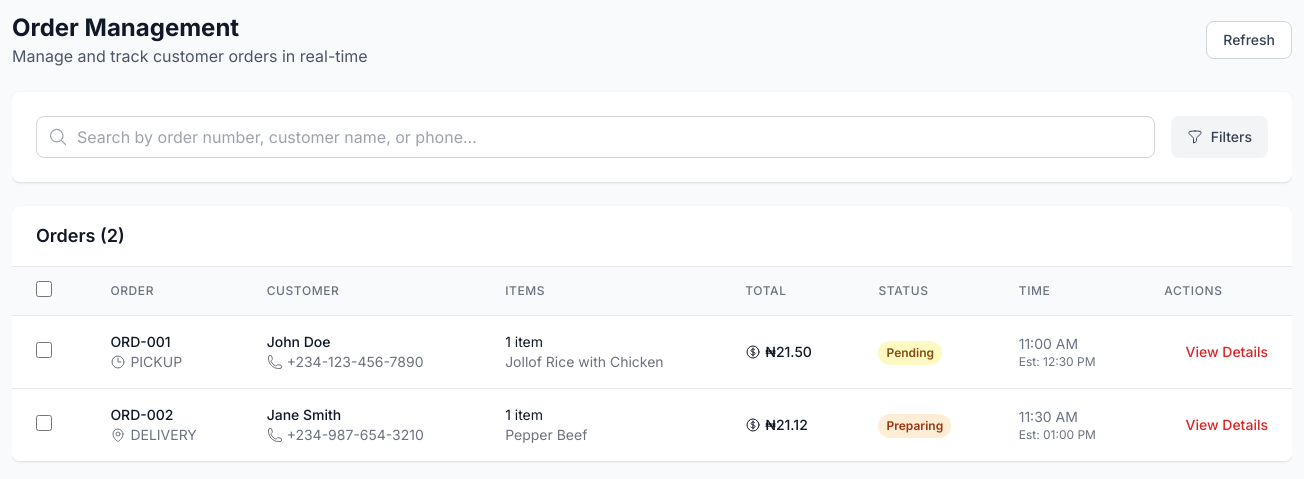
it: OrderManagementPage › filters orders by search term
Type "ORD-001" into the field with placeholder "Search by order number, customer name, or phone...". click: [595, 137]
box: [36, 116, 1155, 158]
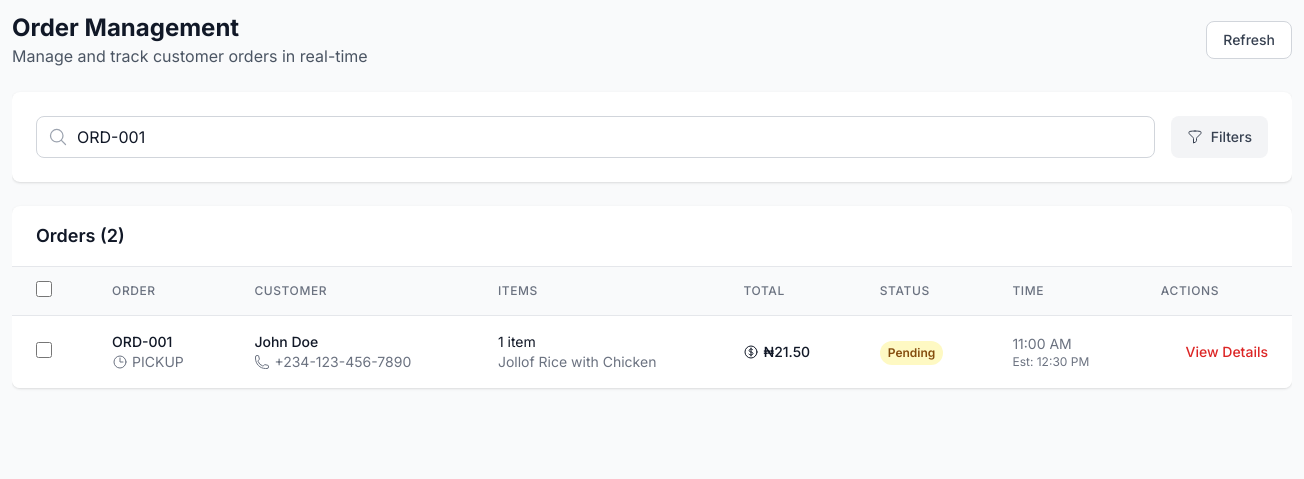
Expected: the text "ORD-001" is shown, [112, 333, 172, 350]
Expected: the text "ORD-002" is gone
